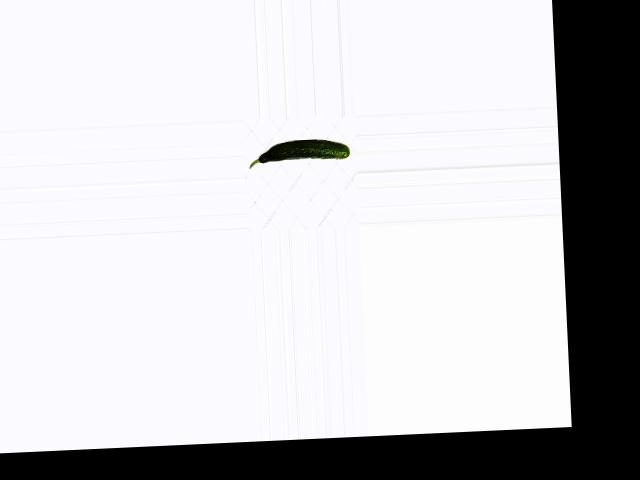cucumber: (247, 138, 349, 168)
